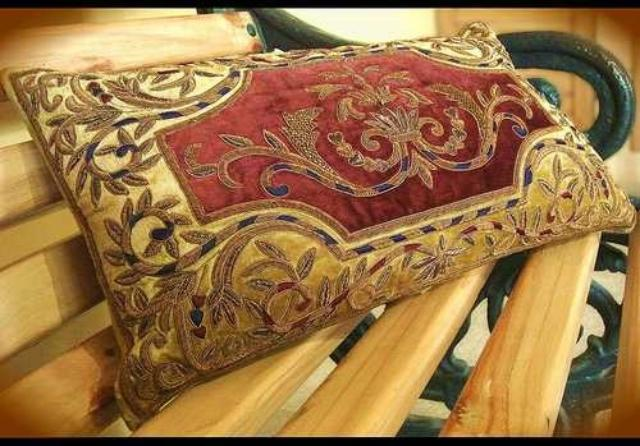pillow: (0, 15, 636, 432)
